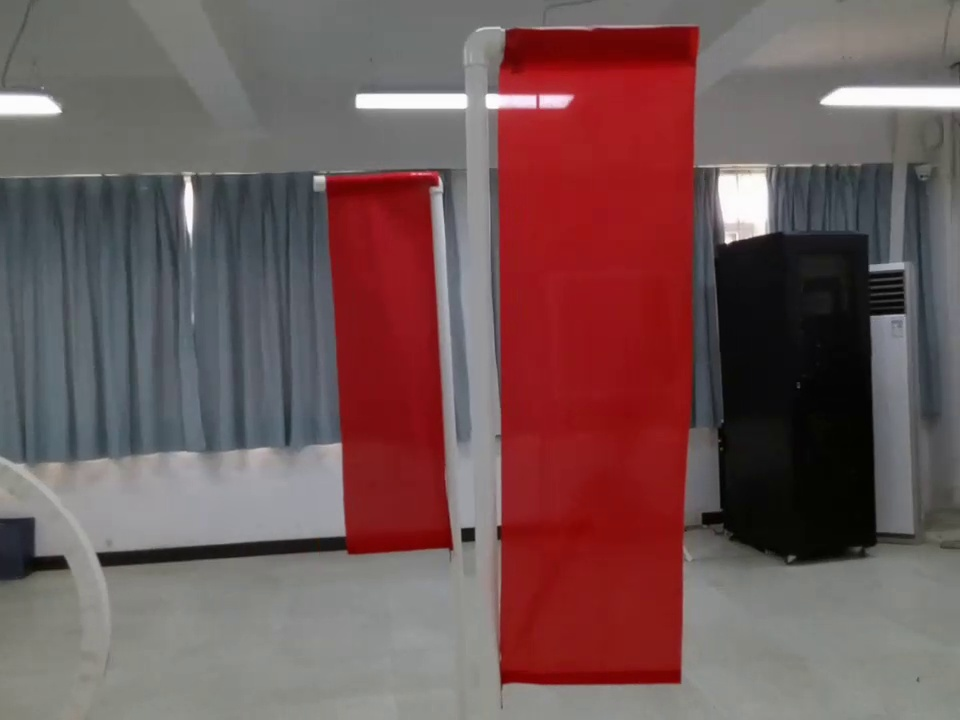qi: (475, 21, 698, 681), (311, 165, 466, 570)
